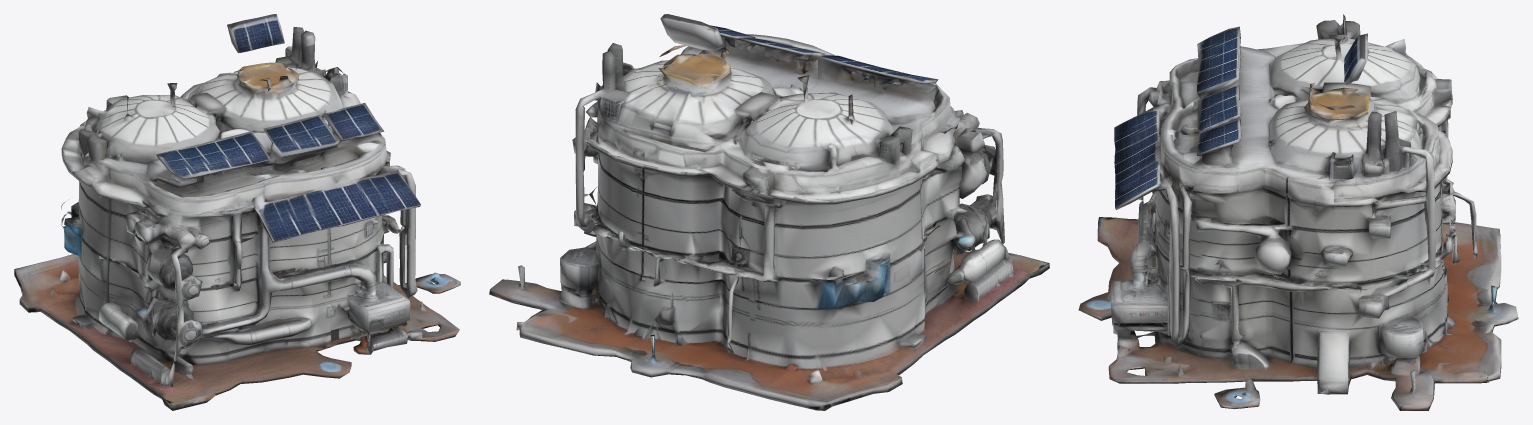
Rendered from Meshy_AI_A_lunar_temporary_ref_0417211214_texture.glb.
3 renders of one model, left to right at view 1: azimuth 30°, elevation 25°; view 2: azimuth 150°, elevation 25°; view 3: azimuth 270°, elevation 25°, orthographic. The views are drawn at different scales.
Bounding box in the file's own units: 2 × 1.39 × 1.93.
Materials: 1 (1 with a texture image).
